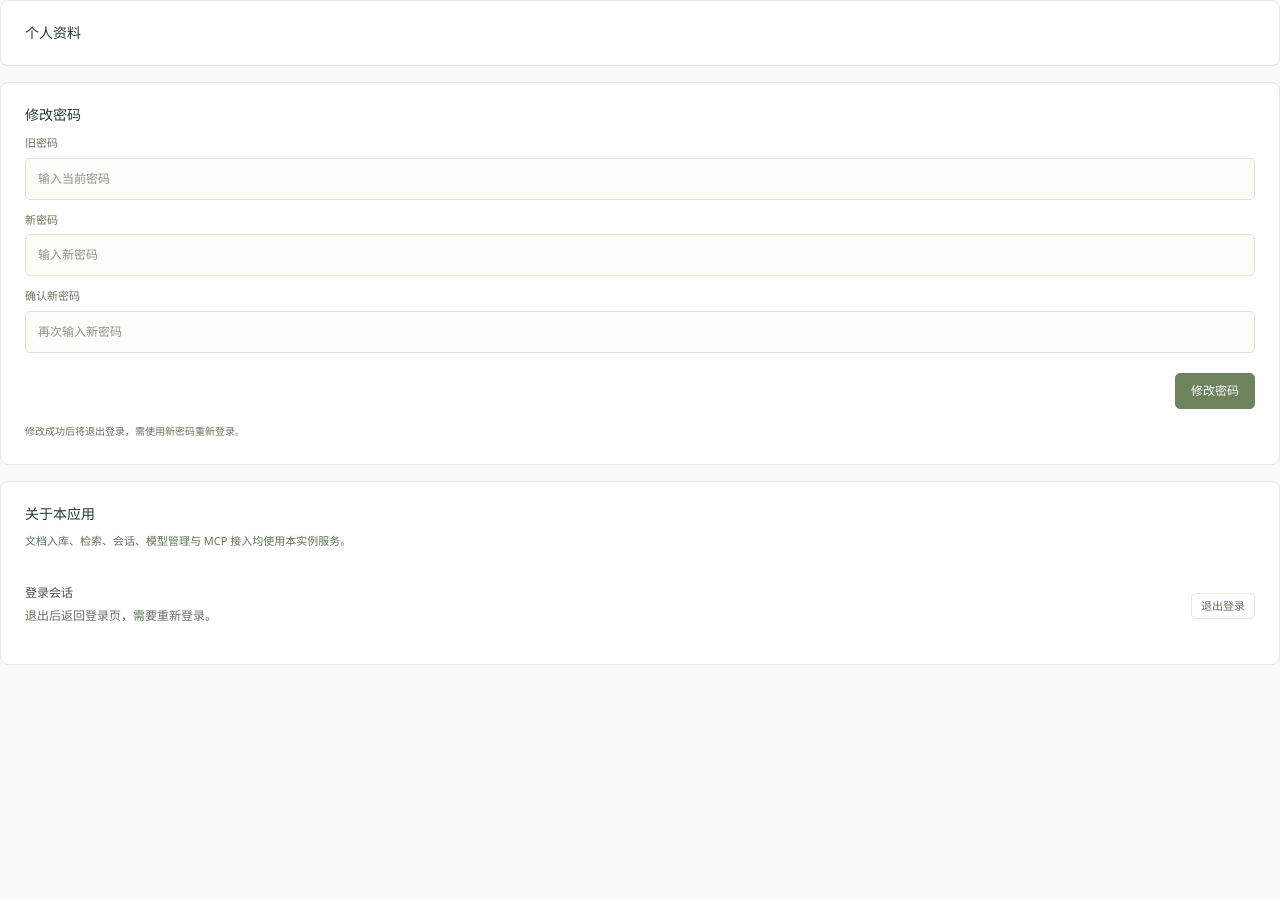
Test: AccountTab 修改密码 › 两次新密码不一致时提示
In the password field labelled "旧密码": (640, 179) [25,158,1255,200], type "old-pass"
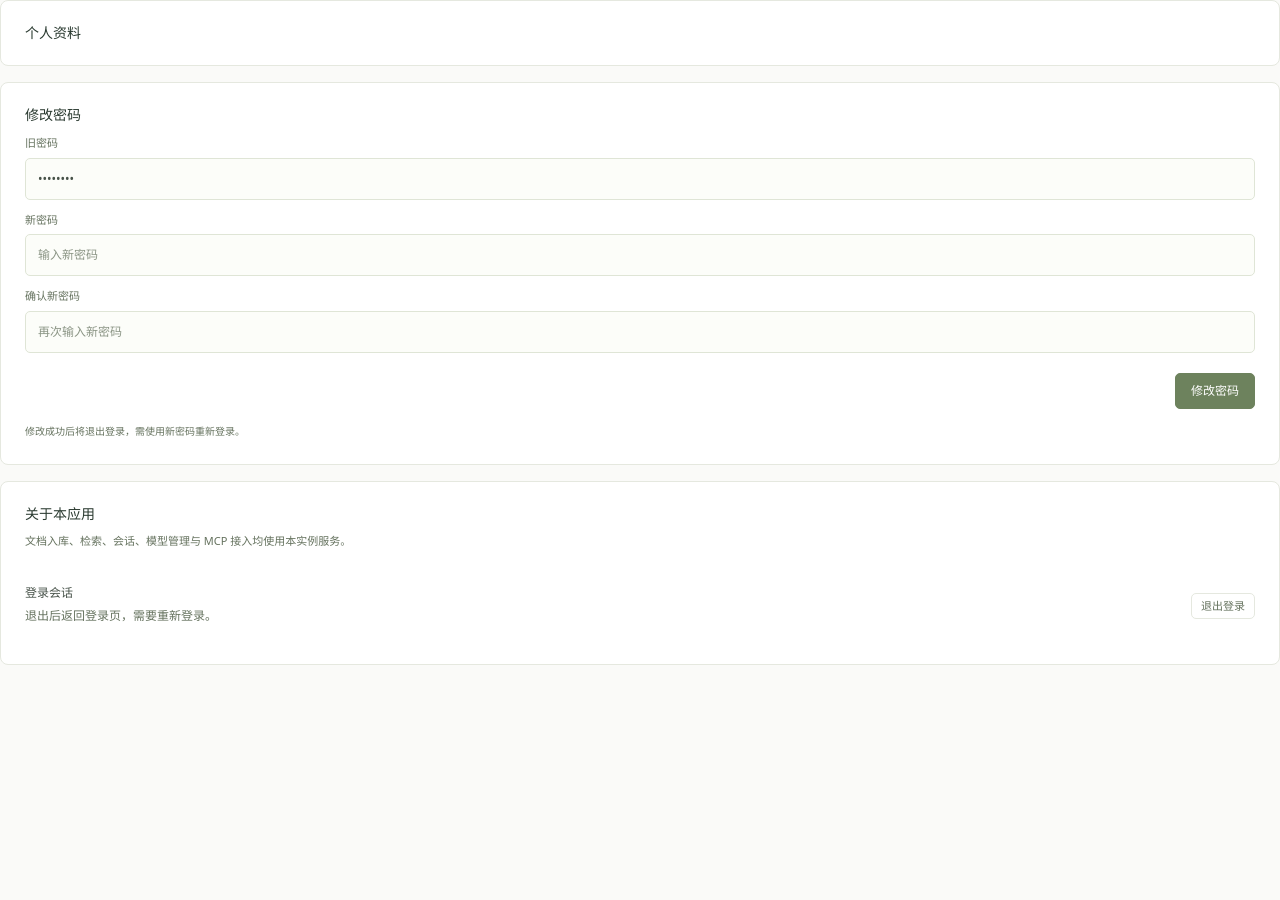
In the password field labelled "新密码": (640, 256) [25,234,1255,276], type "new-pass"
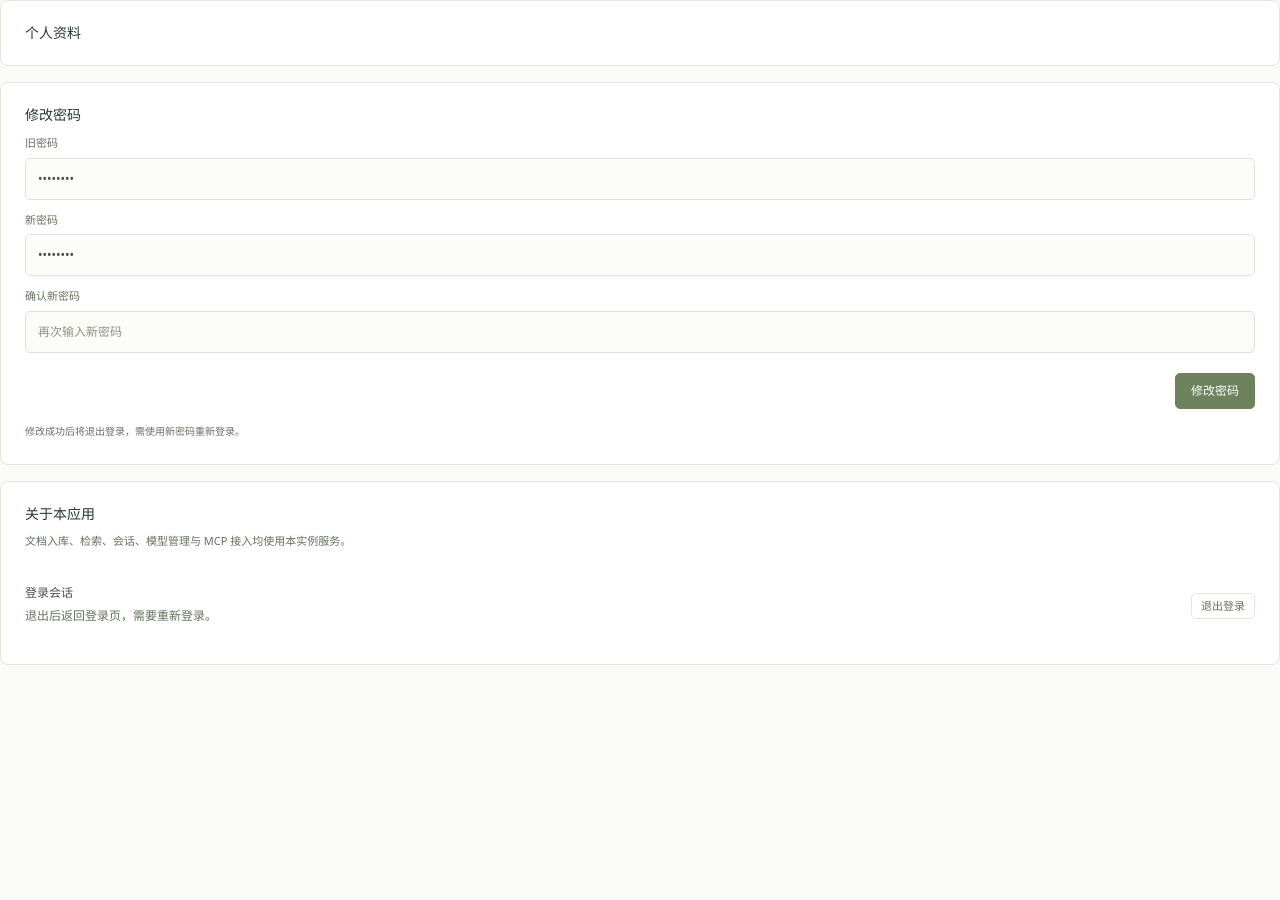
In the password field labelled "确认新密码": (640, 332) [25,311,1255,353], type "other-pass"
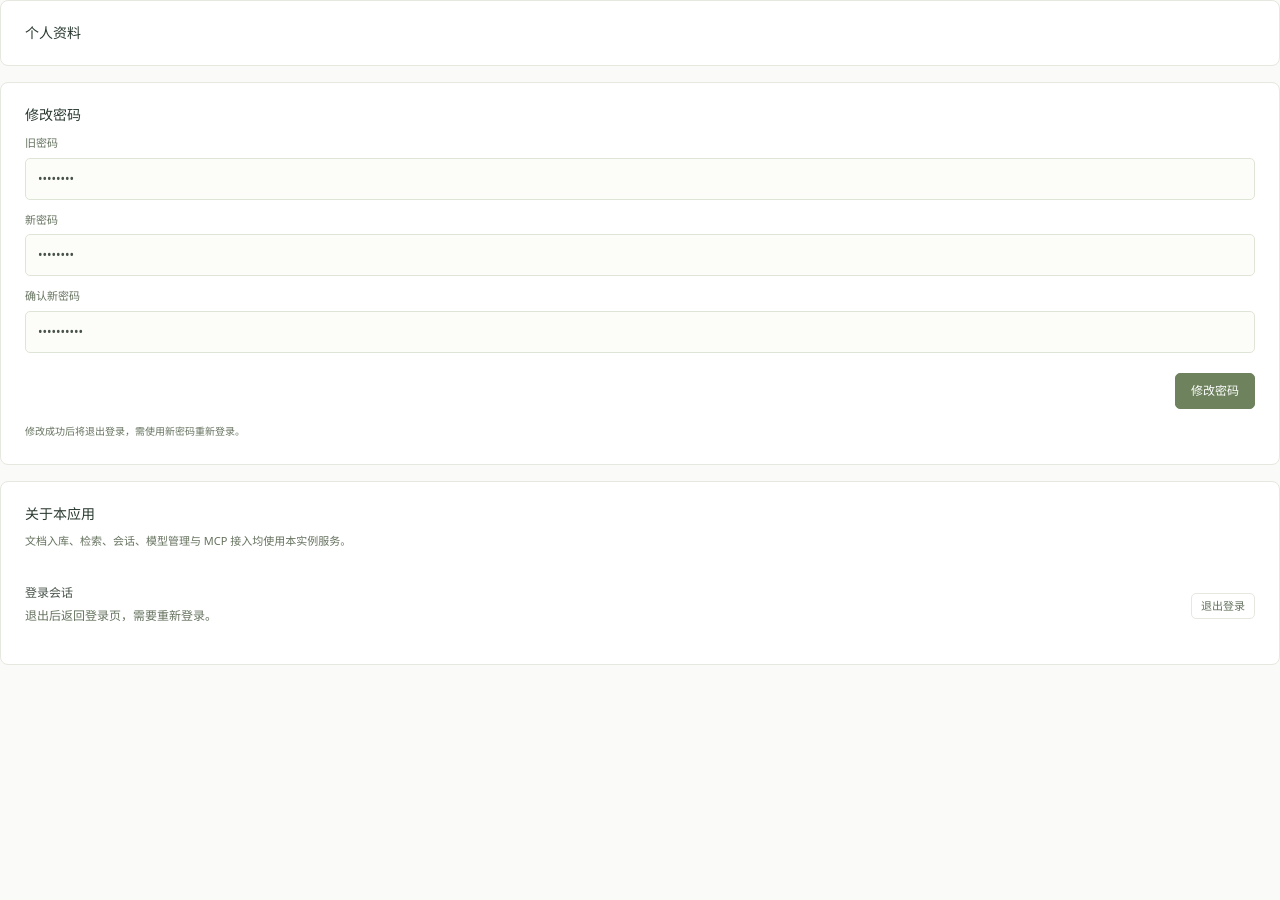
Click the button "修改密码": (1215, 391) [1175,373,1255,409]
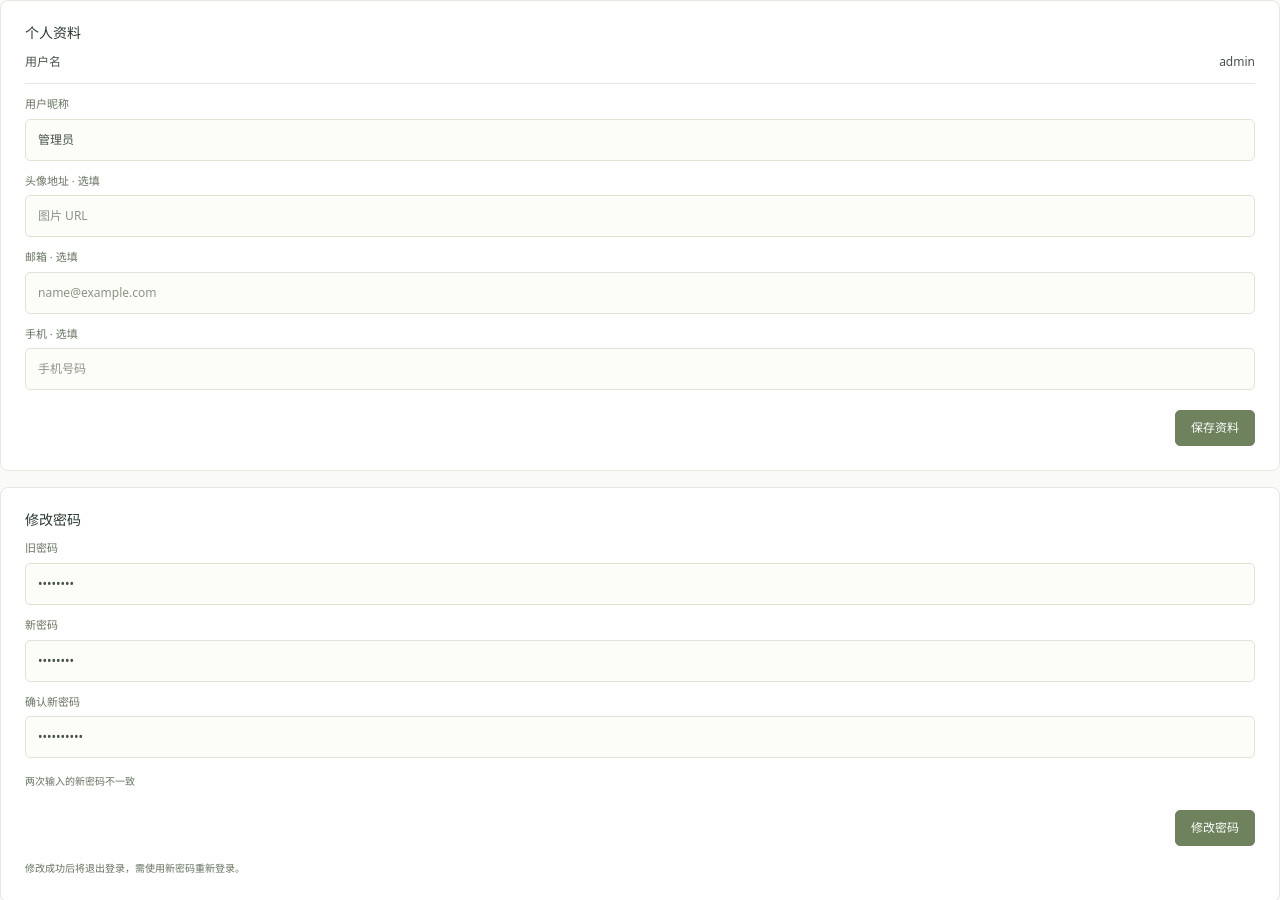
Expected: the text "两次输入的新密码不一致" is shown, [25,774,135,788]
